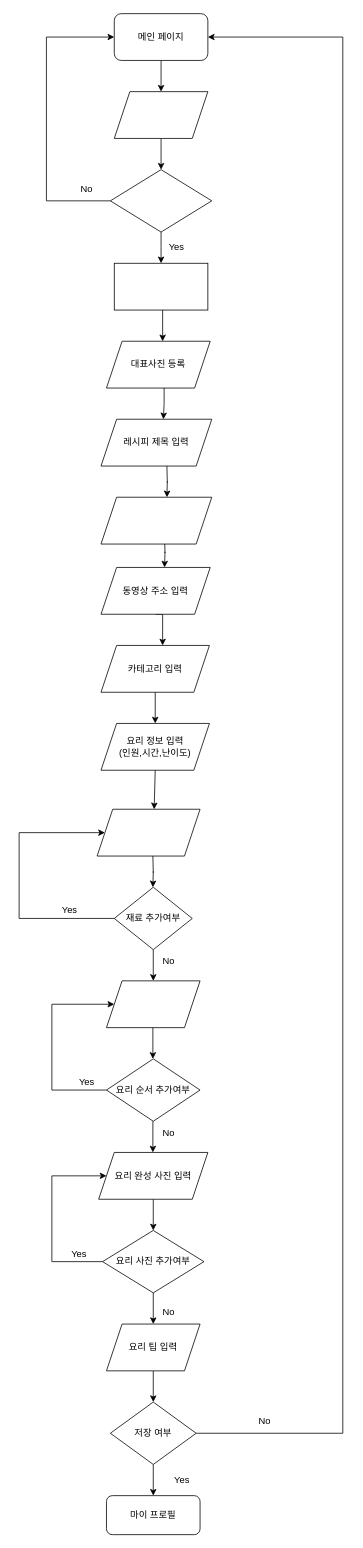
Some shapes in this 363 by 1548 pixel diagram are drawn without their labels. The shapes that lost their labels are listed below. From the top down, each one's centre as x and y in pixels, then its label:
the point at 160,114: 레시피 등록버튼 클릭
the point at 161,200: 레시피 등록 하시겠습니까?
the point at 160,286: 레시피 등록 페이지
the point at 156,520: 요리소개 입력
the point at 148,832: 재료 정보 입력
the point at 153,1004: 요리 순서 입력
